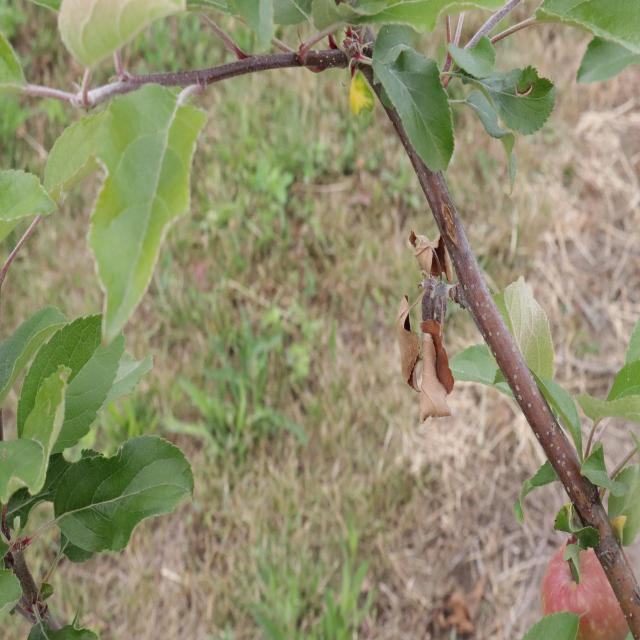-FireBlight-: (399, 224, 459, 409)
